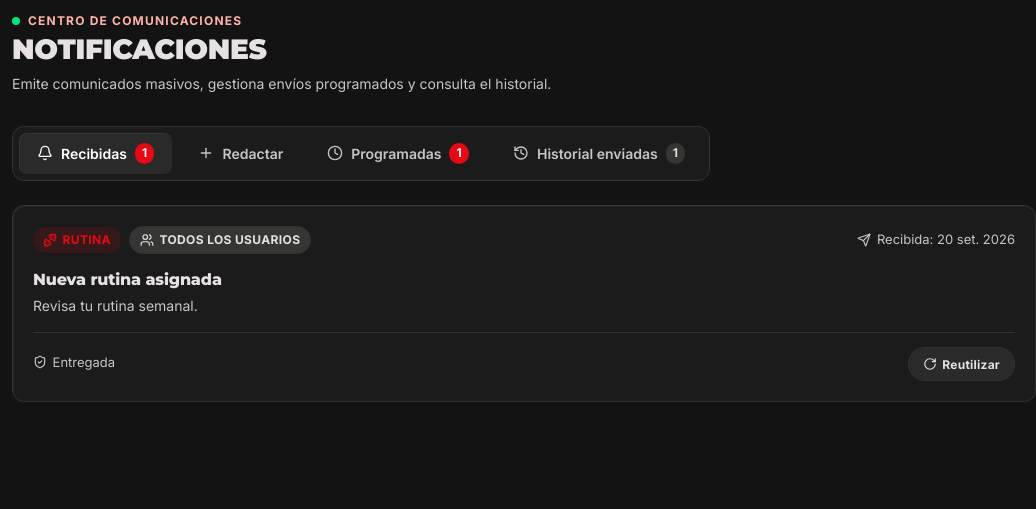
Test: NotificacionesView › permite alternar a la pestaña de Enviadas y muestra el historial
The width and height of the screenshot is (1036, 509).
Step 1. Click the button with class "notificaciones__tab" showing "Historial enviadas 1" → (599, 153), box [495,133,703,174]
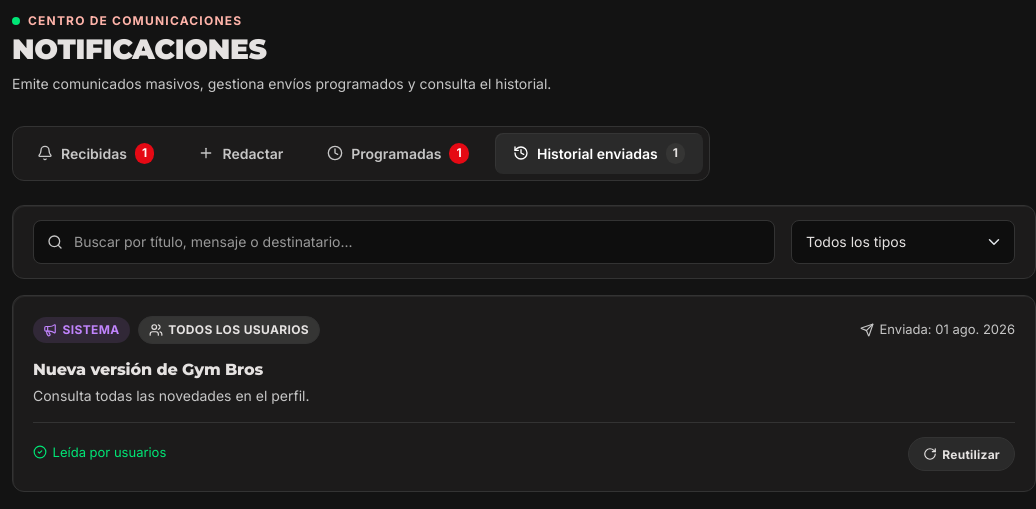
Check: the text "Nueva versión de Gym Bros" is shown, box [33,360,263,379]
